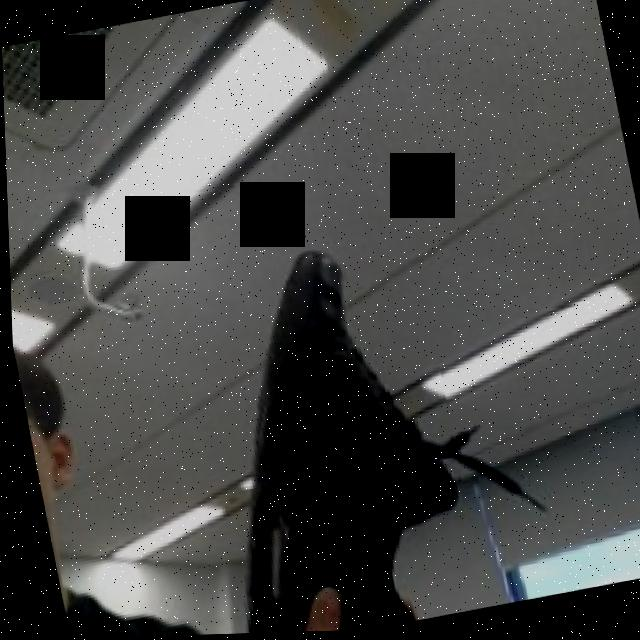shoe: (173, 232, 483, 636)
